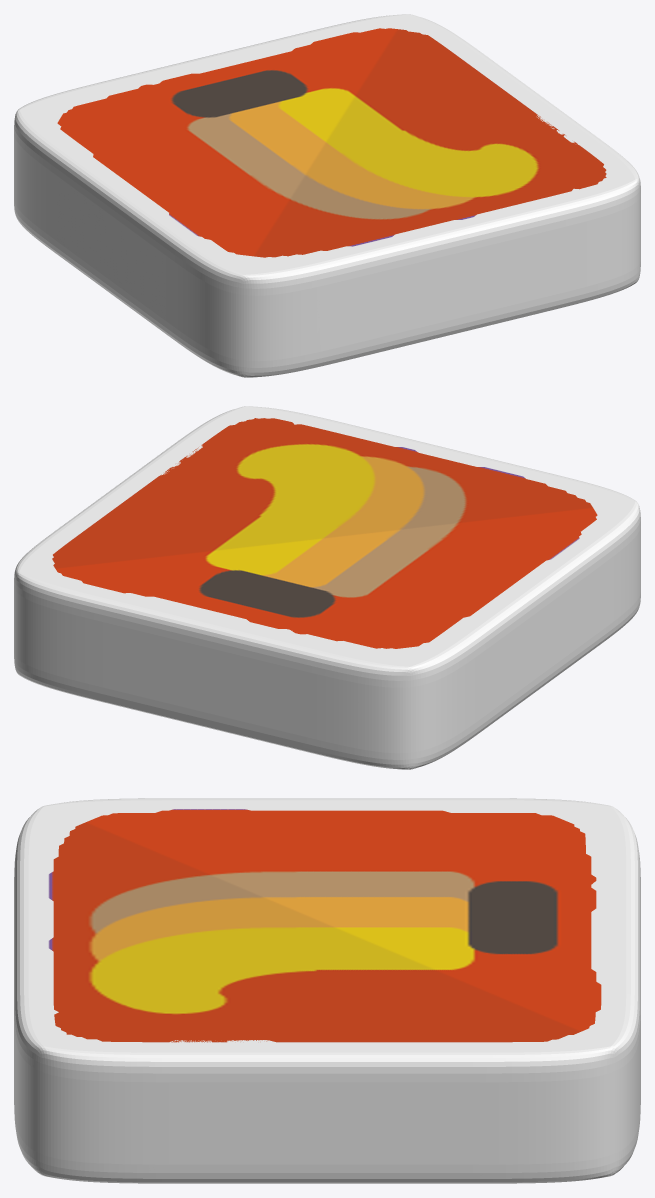
The model's file is BananaPeel.fbx.
The picture shows the model from 3 angles, top to bottom: view 1: azimuth 30°, elevation 25°; view 2: azimuth 150°, elevation 25°; view 3: azimuth 270°, elevation 25°; orthographic projection. The views are drawn at different scales.
Visible parts, largest first — view 1: Plane; view 2: Plane; view 3: Plane.
Part boxes in pixels (bbox=[...]): Plane: bbox=[14, 14, 640, 377]; Plane: bbox=[14, 406, 640, 769]; Plane: bbox=[14, 798, 640, 1183].
Bounding box in the file's own units: 200 × 45.4 × 200.
